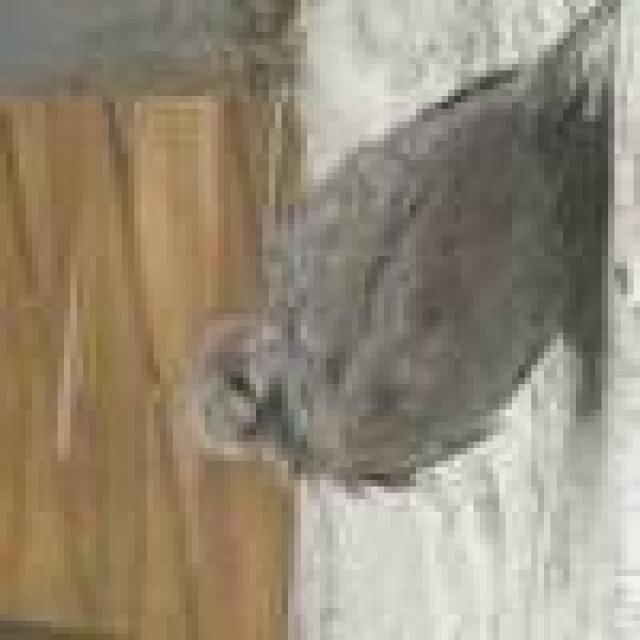pigeon: (173, 26, 640, 525)
